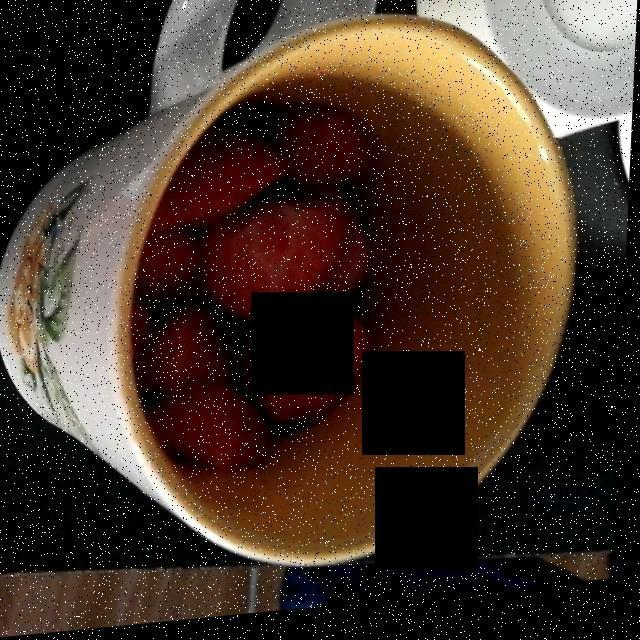strawberries: (143, 110, 373, 475)
